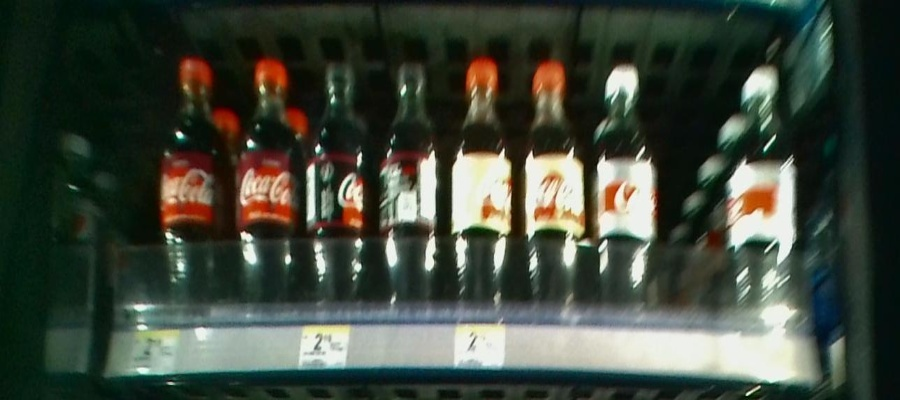bottle: (154, 41, 227, 312), (725, 64, 800, 324), (517, 54, 592, 312), (231, 48, 303, 315), (302, 62, 376, 316), (593, 59, 664, 321), (448, 52, 517, 315), (379, 54, 446, 312)
